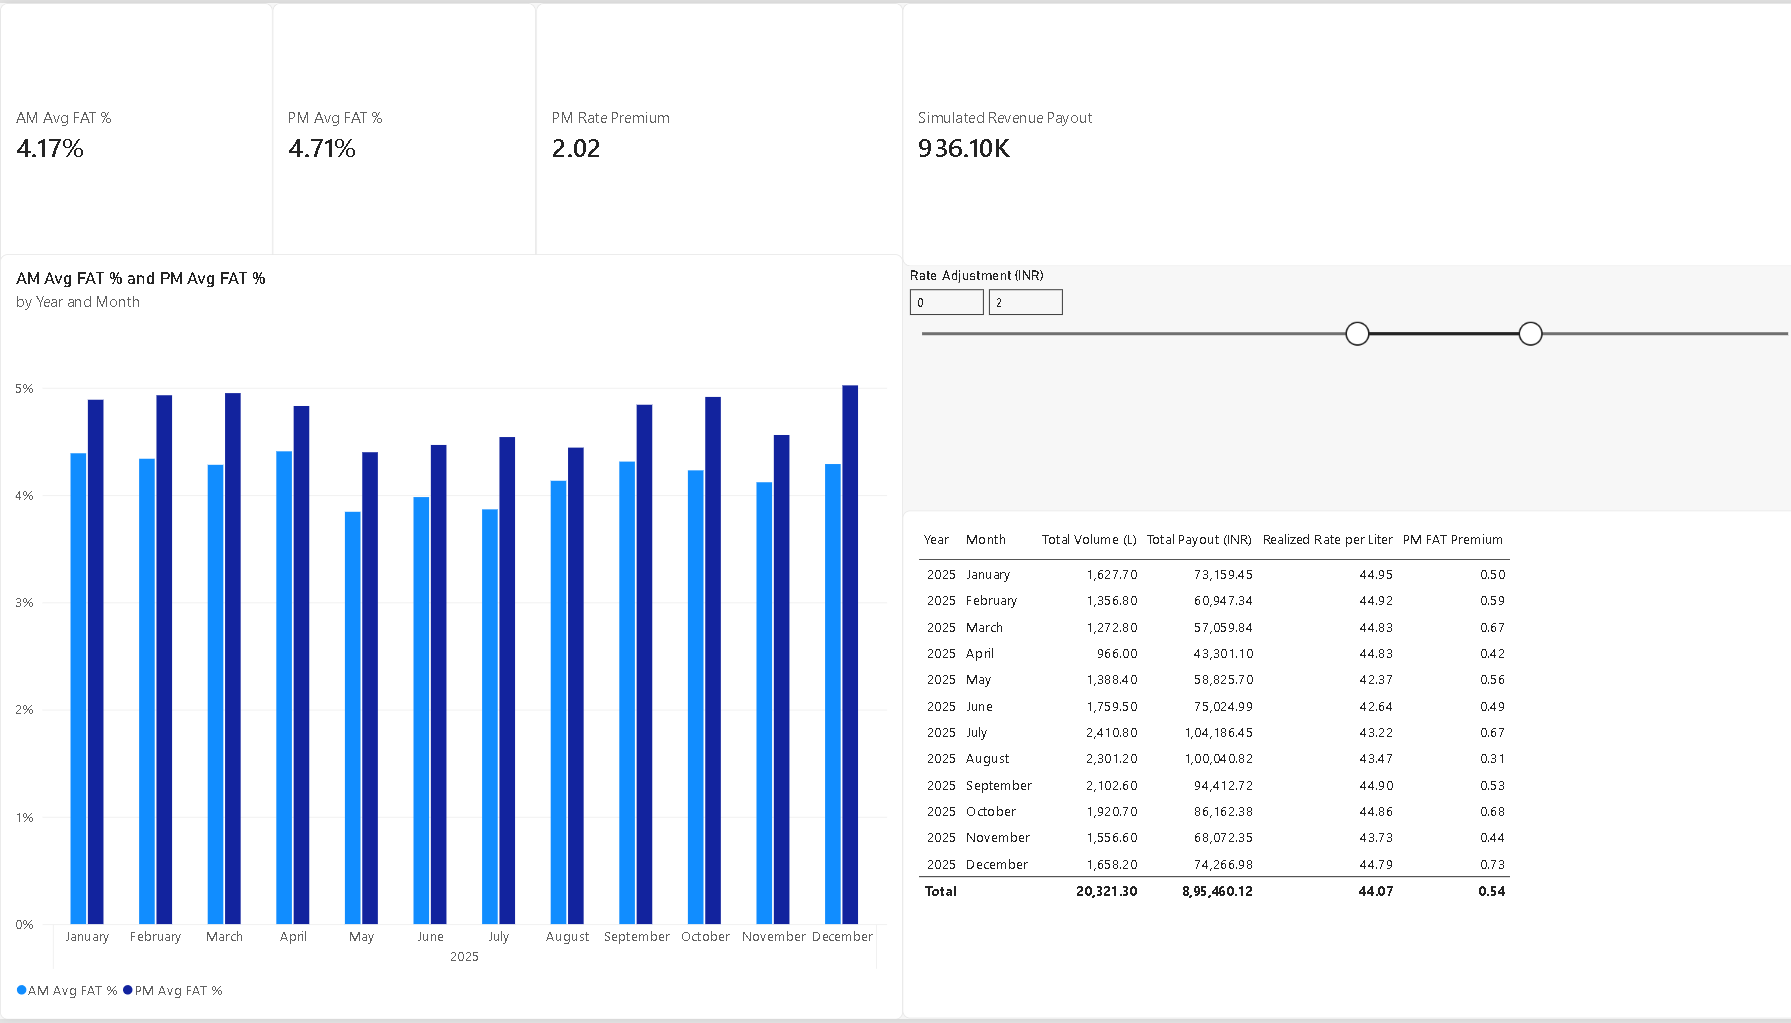

The page's visual inventory and layout, read from the dashboard file:
{"tool":"powerbi","page":{"name":"Quality & Pricing Analysis","canvas":[1920,1080],"ordinal":1},"visuals":[{"type":"cardVisual","fields":{"Data":["_Measures.AM Avg FAT %"]},"box":[0,0,290,280],"z":0},{"type":"cardVisual","fields":{"Data":["_Measures.PM Avg FAT %"]},"box":[290,0,280,280],"z":1000},{"type":"cardVisual","fields":{"Data":["_Measures.PM Rate Premium"]},"box":[570,0,390,280],"z":2000},{"type":"clusteredColumnChart","fields":{"Category":["dairy_procurement_clean.Date.Variation.Date Hierarchy.Year","dairy_procurement_clean.Date.Variation.Date Hierarchy.Month"],"Y":["_Measures.AM Avg FAT %","_Measures.PM Avg FAT %"]},"box":[0,266.7,960,813.3],"z":3000},{"type":"tableEx","fields":{"Values":["dairy_procurement_clean.Date.Variation.Date Hierarchy.Year","dairy_procurement_clean.Date.Variation.Date Hierarchy.Month","_Measures.Total Volume (L)","_Measures.Total Payout (INR)","_Measures.Realized Rate per Liter","_Measures.PM FAT Premium"]},"box":[960,540,960,540],"z":3002},{"type":"cardVisual","fields":{"Data":["_Measures.Simulated Revenue Payout"]},"box":[960,0,960,280],"z":3003},{"type":"slicer","fields":{"Values":["Rate Adjustment (INR).Rate Adjustment (INR)"]},"box":[960,280,960,260],"z":3004}]}

Visuals, with their boxes in screenshot pixels (x1, y1, x2, y2), scaled from the page's 1920x1080 canvas onto the 1791x1023 screenshot:
cardVisual - _Measures.AM Avg FAT %: {"x1": 0, "y1": 0, "x2": 271, "y2": 265}
cardVisual - _Measures.PM Avg FAT %: {"x1": 271, "y1": 0, "x2": 532, "y2": 265}
cardVisual - _Measures.PM Rate Premium: {"x1": 532, "y1": 0, "x2": 896, "y2": 265}
clusteredColumnChart - dairy_procurement_clean.Date.Variation.Date Hierarchy.Year x dairy_procurement_clean.Date.Variation.Date Hierarchy.Month: {"x1": 0, "y1": 253, "x2": 896, "y2": 1022}
tableEx - dairy_procurement_clean.Date.Variation.Date Hierarchy.Year x dairy_procurement_clean.Date.Variation.Date Hierarchy.Month: {"x1": 896, "y1": 512, "x2": 1790, "y2": 1022}
cardVisual - _Measures.Simulated Revenue Payout: {"x1": 896, "y1": 0, "x2": 1790, "y2": 265}
slicer - Rate Adjustment (INR).Rate Adjustment (INR): {"x1": 896, "y1": 265, "x2": 1790, "y2": 512}
